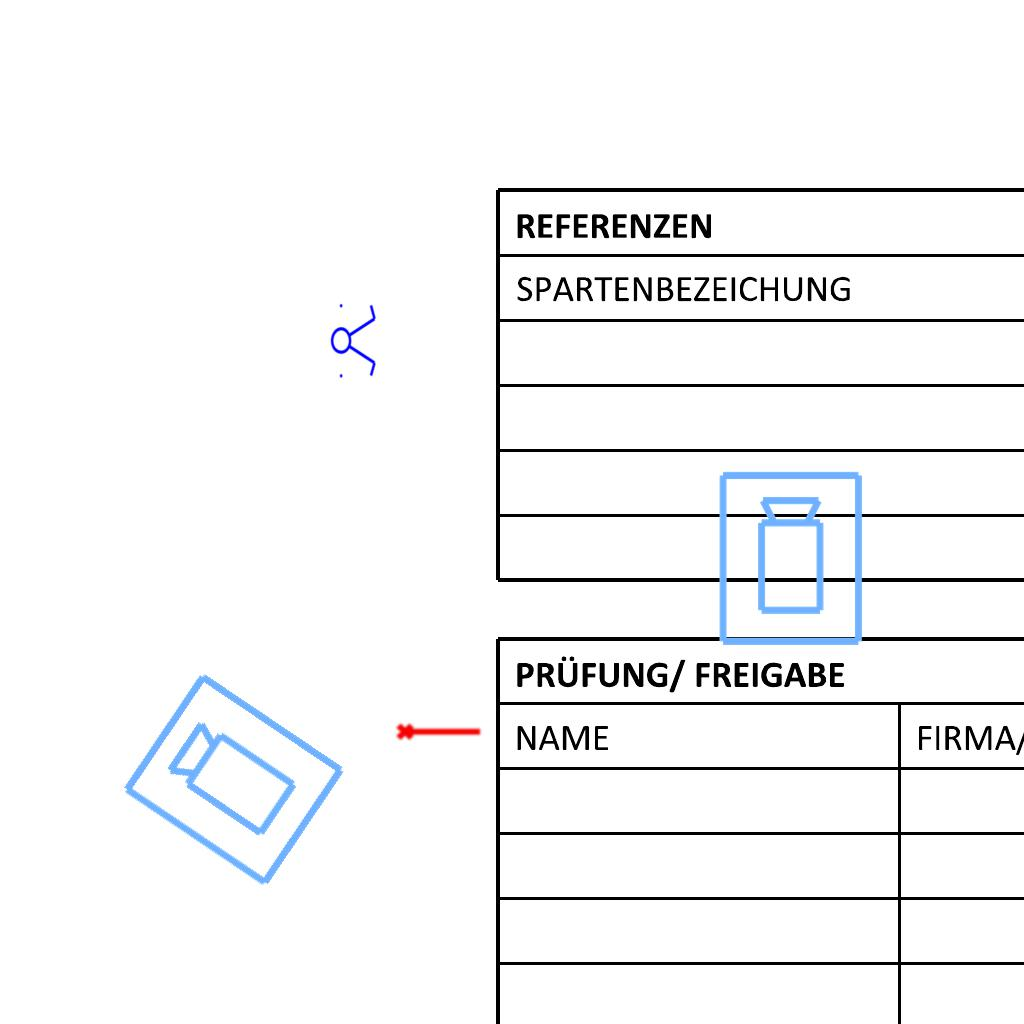ASR_Ansaugoeffnung: (395, 719, 483, 742)
KFO_Kamera_mit_Festobjektiv: (116, 664, 354, 894), (715, 468, 869, 650)
Serienschalter: (330, 298, 378, 382)
